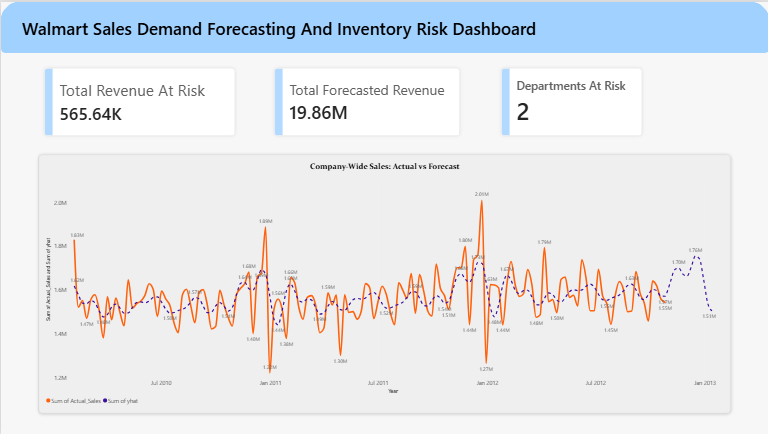

This screenshot's page, from the dashboard's own definition file:
{"tool":"powerbi","page":{"name":"Company Overview","canvas":[1920,1080],"ordinal":0},"visuals":[{"type":"lineChart","title":"Company-Wide Sales: Actual vs Forecast","fields":{"Category":["forecast_output_company_level.ds.Variation.Date Hierarchy.Year","forecast_output_company_level.ds.Variation.Date Hierarchy.Quarter","forecast_output_company_level.ds.Variation.Date Hierarchy.Month","forecast_output_company_level.ds.Variation.Date Hierarchy.Day"],"Y":["Sum(forecast_output_company_level.Actual_Sales)","Sum(forecast_output_company_level.yhat)"]},"box":[95,382.5,1727.5,645],"z":0},{"type":"cardVisual","fields":{"Data":["forecast_output_company_level.Total Forecasted Revenue"]},"box":[670,155,487.5,190],"z":1000},{"type":"cardVisual","fields":{"Data":["forecast_output.Departments At Risk"]},"box":[1237.5,155,375,190],"z":2000},{"type":"cardVisual","fields":{"Data":["forecast_output.Total Revenue At Risk"]},"box":[95,155,500,190],"z":3000},{"type":"shape","box":[0,0,1920,127.5],"z":4000},{"type":"textbox","box":[52.5,37.5,1327.5,90],"z":5000}]}

Visuals, with their boxes in screenshot pixels (x1, y1, x2, y2), scaled from the page's 1920x1080 canvas onto the 768x434 screenshot:
"Company-Wide Sales: Actual vs Forecast" lineChart: [38, 154, 729, 413]
cardVisual - forecast_output_company_level.Total Forecasted Revenue: [268, 62, 463, 139]
cardVisual - forecast_output.Departments At Risk: [495, 62, 645, 139]
cardVisual - forecast_output.Total Revenue At Risk: [38, 62, 238, 139]
shape: [0, 0, 767, 51]
textbox: [21, 15, 552, 51]
